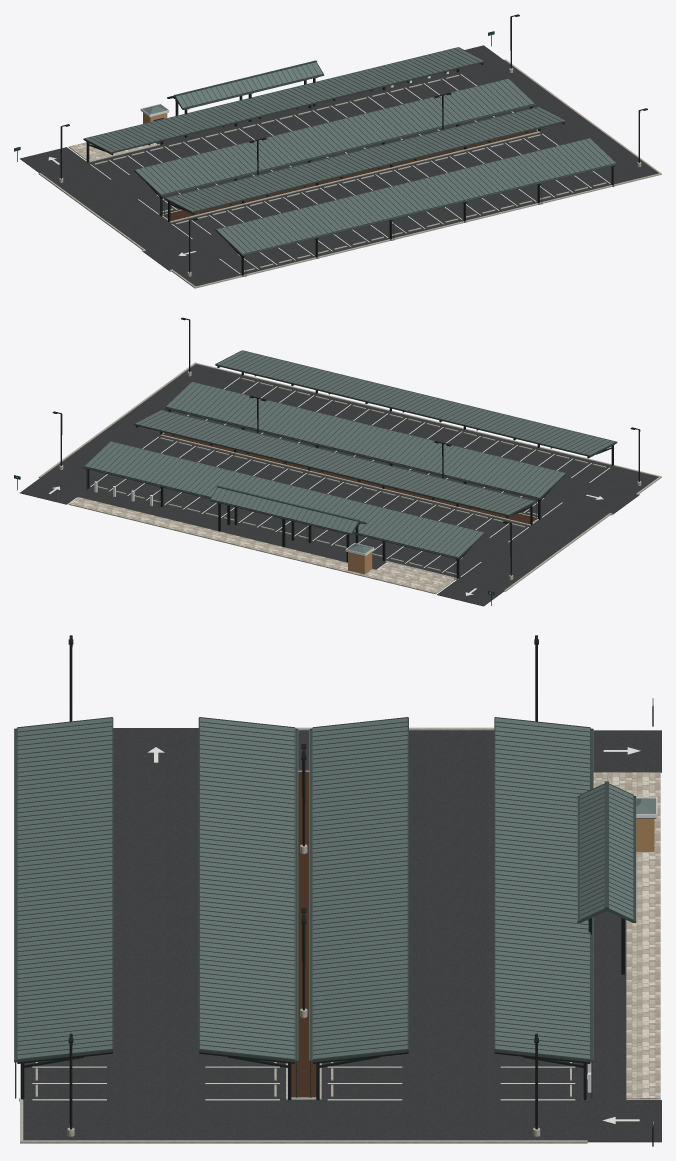
The model's file is parking_lot_l4.gltf.
3 renders of one model, top to bottom at view 1: azimuth 30°, elevation 25°; view 2: azimuth 150°, elevation 25°; view 3: azimuth 270°, elevation 25°, orthographic. The views are drawn at different scales.
Visible parts, largest first — view 1: ROOF, BASE, WALLS_HIGH; view 2: BASE, ROOF, WALLS_HIGH; view 3: ROOF, BASE, WALLS_HIGH.
Part boxes in pixels (<box>): ROOF: <box>83,47,617,276</box>; BASE: <box>14,14,661,288</box>; WALLS_HIGH: <box>86,69,614,276</box>; BASE: <box>14,317,661,606</box>; ROOF: <box>83,350,617,579</box>; WALLS_HIGH: <box>86,372,613,579</box>; ROOF: <box>14,717,657,1098</box>; BASE: <box>20,635,661,1146</box>; WALLS_HIGH: <box>19,918,624,1101</box>.
Size of the model in its own units: 67.5 by 7.7 by 43.42.
Materials: 15 (3 with a texture image).
